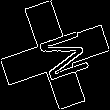M_W: (23, 25, 87, 85)
